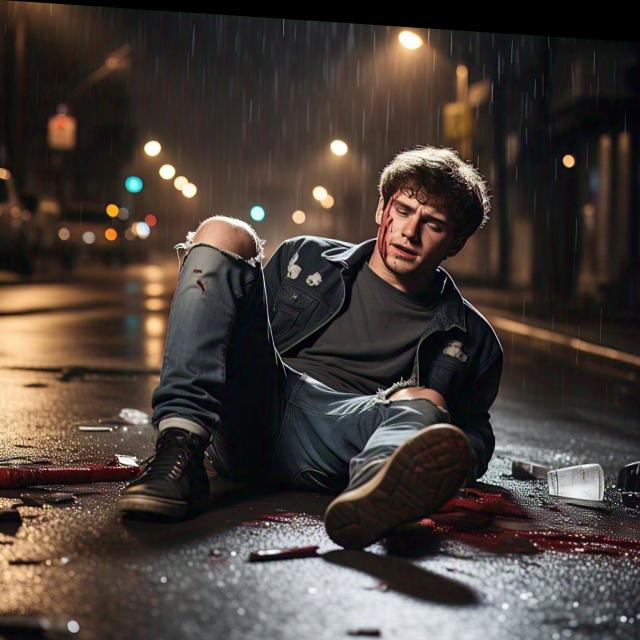injury: (373, 141, 503, 283), (377, 189, 399, 255)
